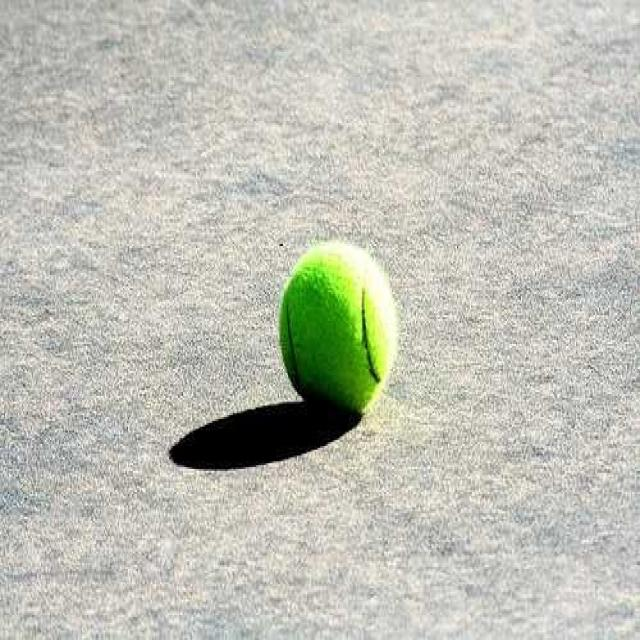Tennis_Ball: (284, 246, 400, 418)
